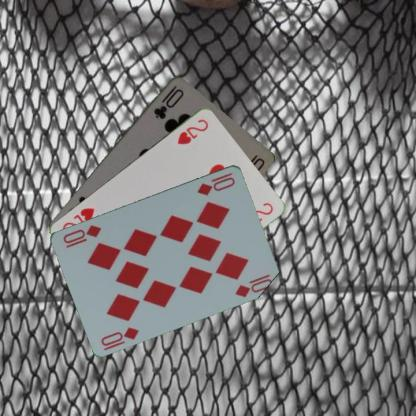10c: (151, 82, 185, 120)
10d: (195, 170, 236, 196), (98, 324, 140, 347)
2h: (174, 116, 210, 146)
